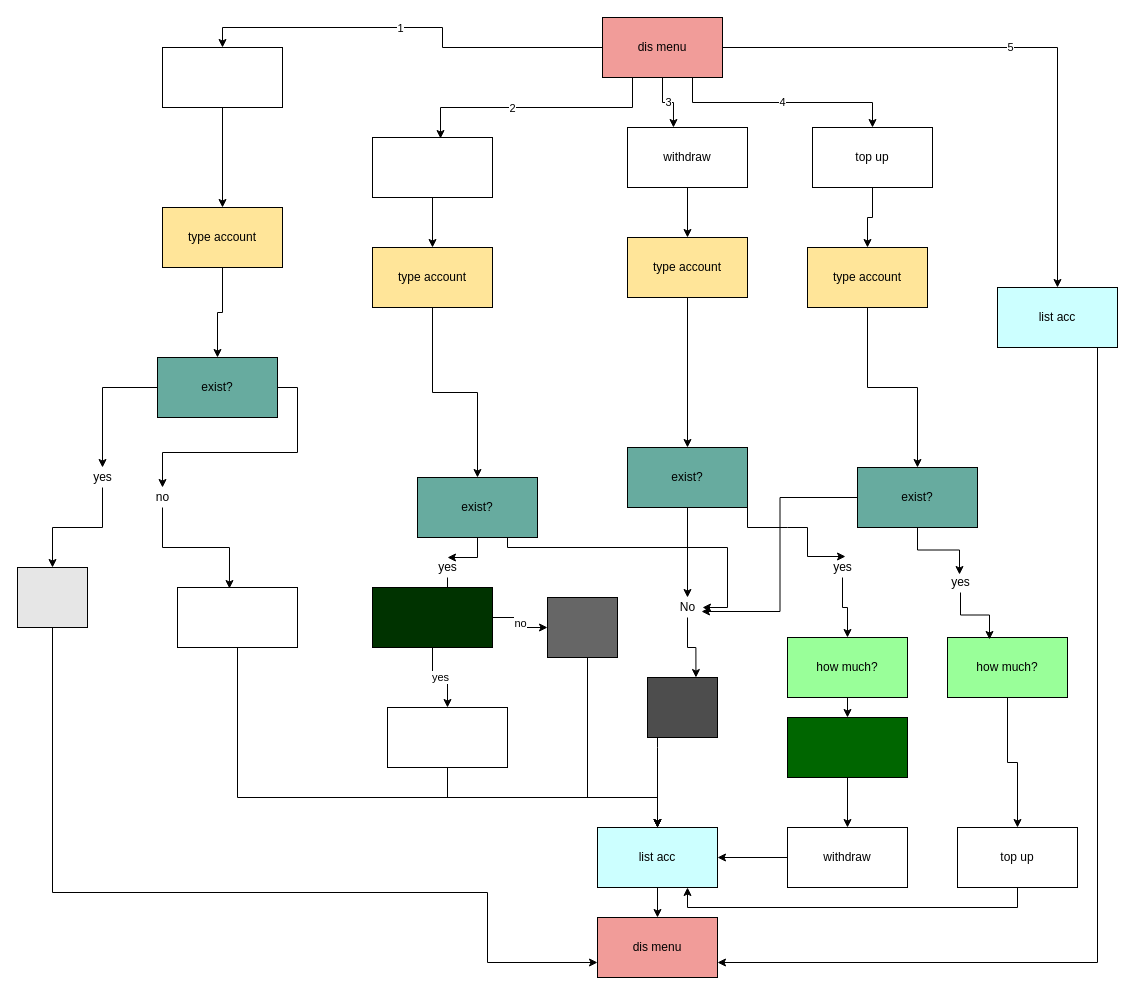
The diagram is 1135 pixels wide and 995 high, and some of its shapes have lost their labels. The centre of each missing label's shape, as x and y in pixels:
add: point (222, 77)
add acc: point (237, 617)
delete: point (432, 167)
delete acc: point (447, 737)
dis err "already exist": point (52, 597)
dis err "no acc": point (682, 707)
dis err "not empty": point (582, 627)
enough funds?: point (847, 747)
zero funds?: point (432, 617)
